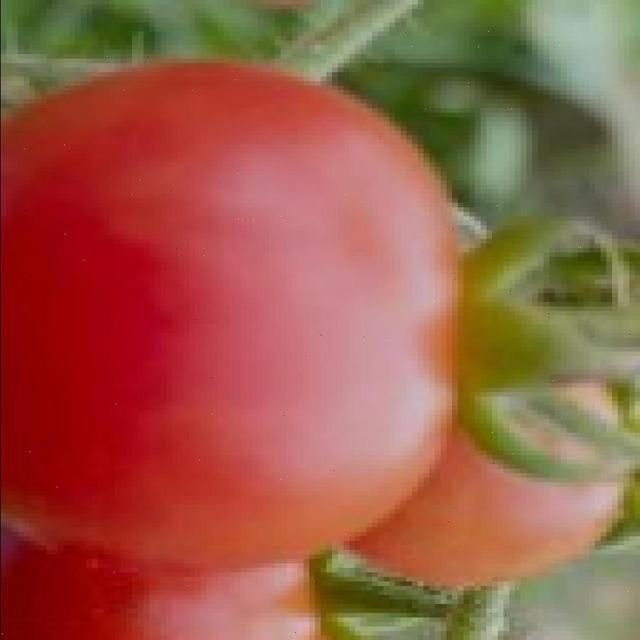Healthy Fruit: (150, 196, 329, 340)
